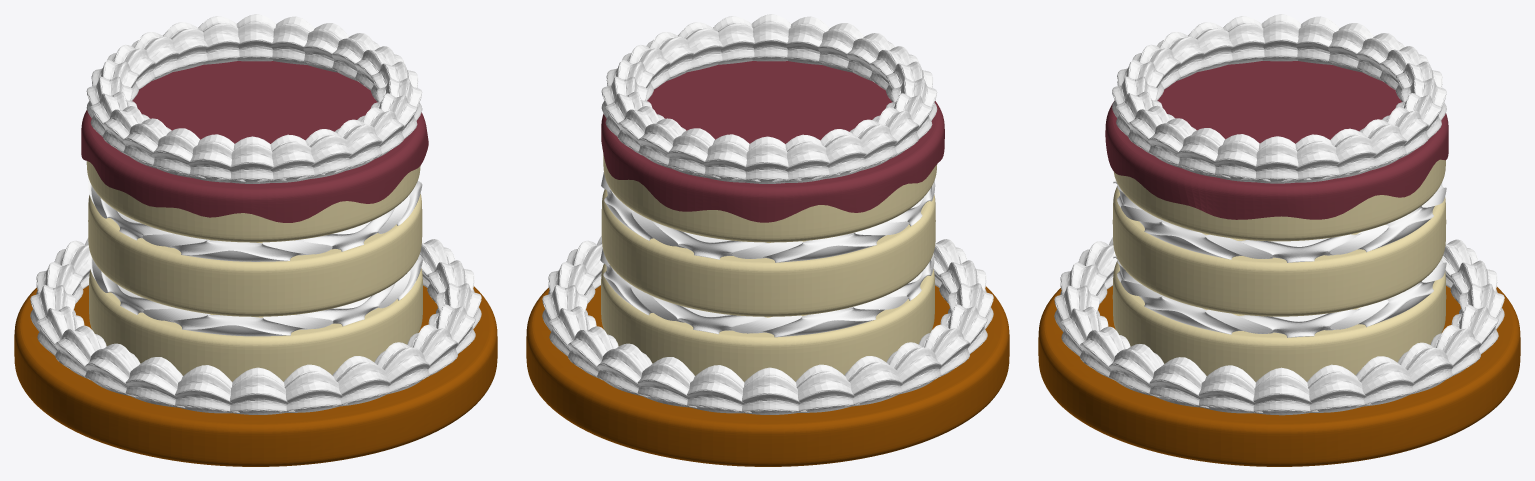
Rendered from tempcake3-organized.glb.
3 views of the same model, side by side, from view 1: azimuth 30°, elevation 25°; view 2: azimuth 150°, elevation 25°; view 3: azimuth 270°, elevation 25° (orthographic).
Visible parts, largest first — view 1: base, icing, layer2, layer1, layer3, layer1_5, layer2_5, Star.006, Star.005, Star.007, Star.004, Star.008 (+36 smaller); view 2: base, icing, layer2, layer1, layer3, layer1_5, layer2_5, Star.022, Star.021, Star.023, Star.020, Star.024 (+36 smaller); view 3: base, icing, layer2, layer1, layer3, layer2_5, layer1_5, Star.014, Star.013, Star.015, Star.012, Star.016 (+36 smaller).
Part boxes in pixels (x1,y1,x2,y2): base: (14, 285, 497, 466); icing: (81, 61, 428, 222); layer2: (88, 194, 422, 316); layer1: (89, 268, 422, 381); layer3: (86, 161, 420, 242); layer1_5: (89, 252, 422, 336); layer2_5: (88, 179, 422, 261); Star.006: (222, 367, 295, 414); Star.005: (169, 365, 239, 413); Star.007: (278, 364, 347, 412); Star.004: (125, 357, 185, 408); Star.008: (332, 356, 394, 406); base: (526, 285, 1009, 466); icing: (601, 61, 944, 222); layer2: (601, 189, 935, 316); layer1: (601, 264, 934, 381); layer3: (603, 154, 937, 242); layer1_5: (600, 249, 934, 337); layer2_5: (601, 172, 935, 262); Star.022: (734, 367, 807, 414); Star.021: (681, 365, 751, 413); Star.023: (790, 364, 859, 412); Star.020: (637, 357, 697, 408); Star.024: (844, 356, 906, 406); base: (1038, 286, 1520, 466); icing: (1105, 61, 1448, 219); layer2: (1112, 186, 1446, 316); layer1: (1112, 261, 1446, 381); layer3: (1113, 159, 1445, 241); layer2_5: (1113, 176, 1446, 262); layer1_5: (1113, 251, 1446, 337); Star.014: (1246, 367, 1318, 415); Star.013: (1193, 365, 1263, 413); Star.015: (1301, 364, 1371, 412); Star.012: (1149, 357, 1209, 408); Star.016: (1355, 356, 1417, 406).
Size of the model in its own units: 1.99 by 1.31 by 1.99.
